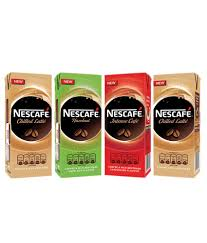nescafe-classic/gold-med: (4, 68, 53, 177), (103, 73, 152, 177), (153, 72, 199, 179), (55, 71, 101, 176)
